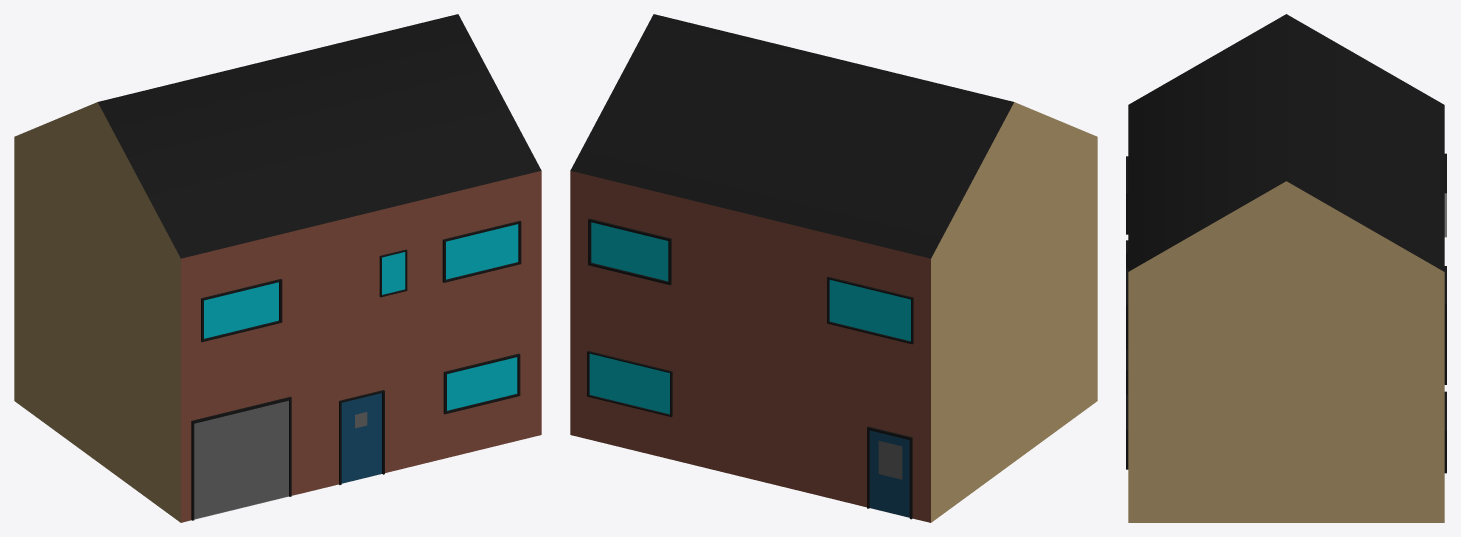
Rendered from MidHouse1.fbx.
3 views of the same model, side by side, from view 1: azimuth 30°, elevation 25°; view 2: azimuth 150°, elevation 25°; view 3: azimuth 270°, elevation 25° (orthographic). The views are drawn at different scales.
Visible parts, largest first — view 1: pCube1; view 2: pCube1; view 3: pCube1.
Boxes of the visible parts, x1,y1,x2,y2 form: pCube1: (14, 14, 541, 522); pCube1: (570, 14, 1097, 522); pCube1: (1126, 14, 1446, 522).
Bounding box in the file's own units: 10 × 9.54 × 8.11.
